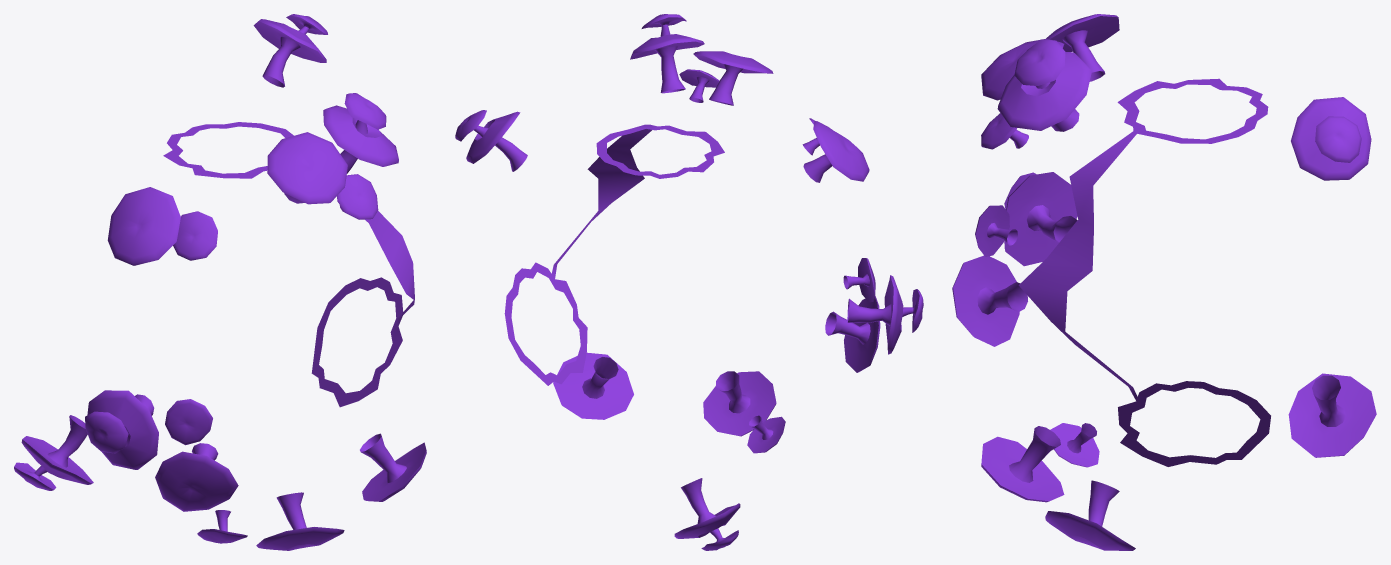
File: IG_planete_02_emissive.fbx
The picture shows the model from 3 angles, left to right: view 1: azimuth 30°, elevation 25°; view 2: azimuth 150°, elevation 25°; view 3: azimuth 270°, elevation 25°; orthographic projection. The views are drawn at different scales.
Parts seen in each view (by area): view 1: mushrooms_emissive; view 2: mushrooms_emissive; view 3: mushrooms_emissive.
Boxes of the visible parts, x1,y1,x2,y2 form: mushrooms_emissive: (14, 14, 426, 550); mushrooms_emissive: (455, 14, 923, 550); mushrooms_emissive: (952, 14, 1376, 550).
Bounding box in the file's own units: 162 × 185 × 144.
